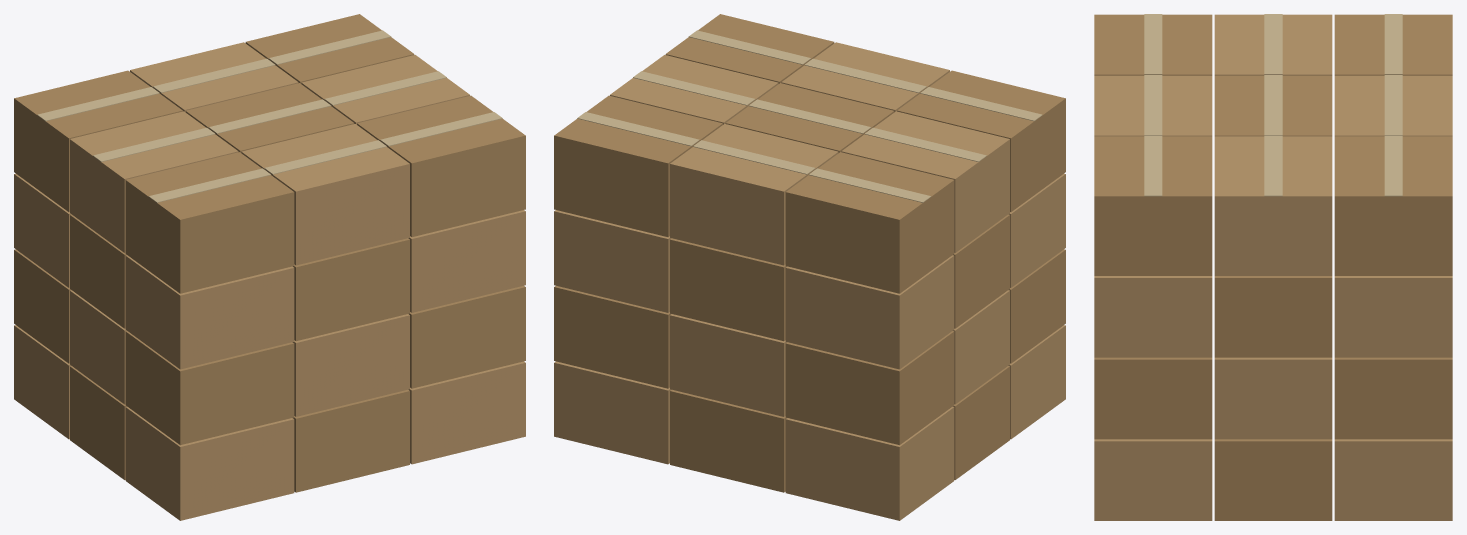
File: load-iso1200x1000-cartons.glb
3 views of the same model, side by side, from view 1: azimuth 30°, elevation 25°; view 2: azimuth 150°, elevation 25°; view 3: azimuth 270°, elevation 25° (orthographic). The views are drawn at different scales.
Visible parts, largest first — view 1: load-cartons; view 2: load-cartons; view 3: load-cartons.
Boxes of the visible parts, x1,y1,x2,y2 form: load-cartons: [14, 14, 525, 520]; load-cartons: [554, 14, 1065, 520]; load-cartons: [1094, 14, 1452, 520].
Bounding box in the file's own units: 1.19 × 0.996 × 0.994.
